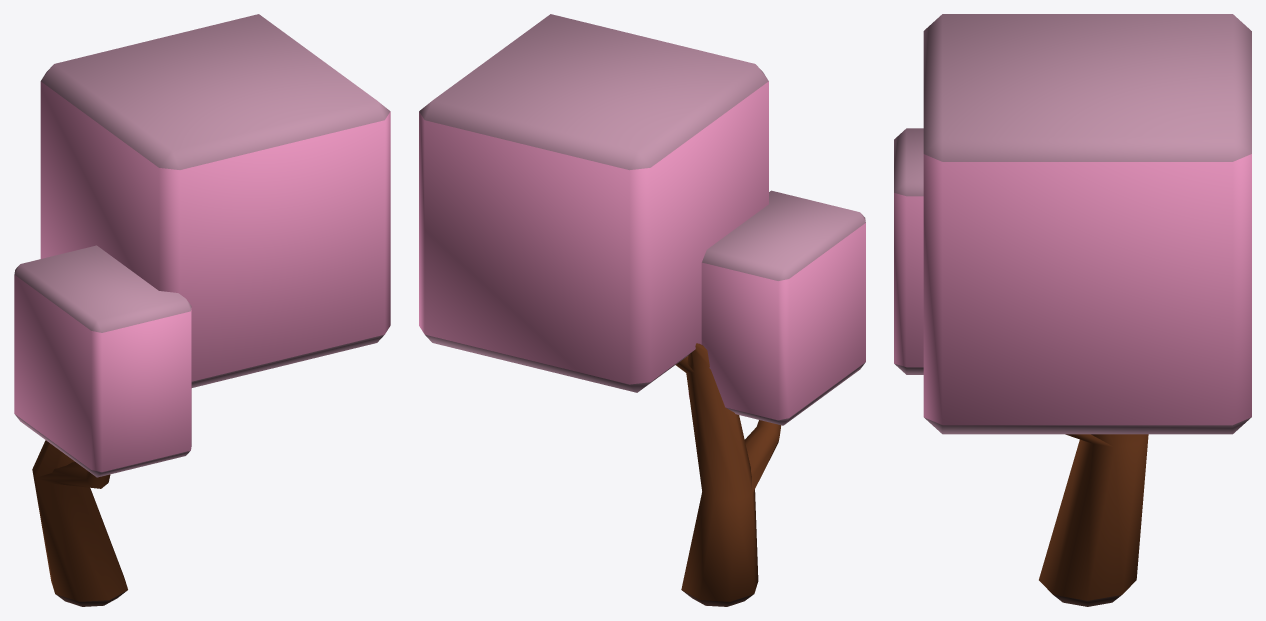
The model's file is tree-a4.glb.
The picture shows the model from 3 angles, left to right: view 1: azimuth 30°, elevation 25°; view 2: azimuth 150°, elevation 25°; view 3: azimuth 270°, elevation 25°; orthographic projection. The views are drawn at different scales.
Visible parts, largest first — view 1: tree-43.col; view 2: tree-43.col; view 3: tree-43.col.
Part boxes in pixels (x1,y1,x2,y2): tree-43.col: [14, 14, 390, 606]; tree-43.col: [419, 14, 865, 606]; tree-43.col: [894, 14, 1251, 606].
Bounding box in the file's own units: 0.6686 × 0.9816 × 0.5373.
Materials: 1 (1 with a texture image).
